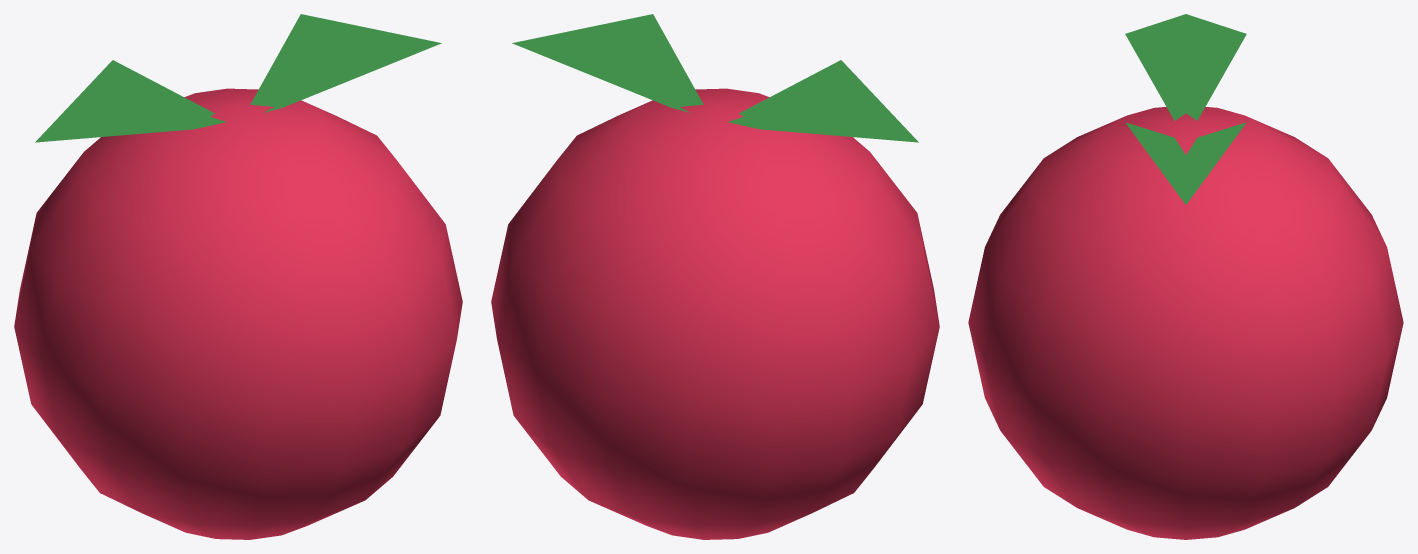
Rendered from berry.glb.
3 views of the same model, side by side, from view 1: azimuth 30°, elevation 25°; view 2: azimuth 150°, elevation 25°; view 3: azimuth 270°, elevation 25° (orthographic). The views are drawn at different scales.
Visible parts, largest first — view 1: berry; view 2: berry; view 3: berry.
Part boxes in pixels (box(x1,y1,x2,y2)): berry: box(14, 14, 462, 539); berry: box(491, 14, 939, 539); berry: box(968, 14, 1403, 539).
Bounding box in the file's own units: 0.52 × 0.56 × 0.5002.
